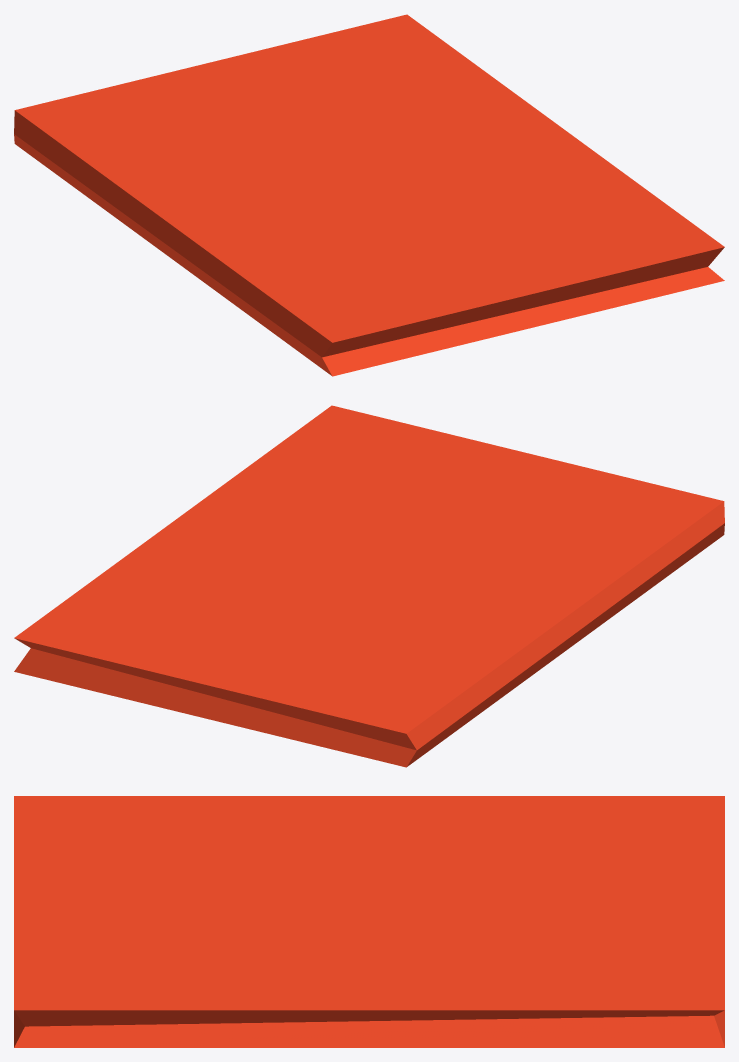
File: SM_Newspaper_Accident_City.fbx
3 renders of one model, top to bottom at view 1: azimuth 30°, elevation 25°; view 2: azimuth 150°, elevation 25°; view 3: azimuth 270°, elevation 25°, orthographic. The views are drawn at different scales.
Parts seen in each view (by area): view 1: SM_Newspaper_Accident_City; view 2: SM_Newspaper_Accident_City; view 3: SM_Newspaper_Accident_City.
Boxes of the visible parts, left/top/right/bottom form: SM_Newspaper_Accident_City: left=14, top=14, right=724, bottom=376; SM_Newspaper_Accident_City: left=14, top=405, right=724, bottom=767; SM_Newspaper_Accident_City: left=14, top=796, right=724, bottom=1047.
Bounding box in the file's own units: 0.2784 × 0.0225 × 0.385.
